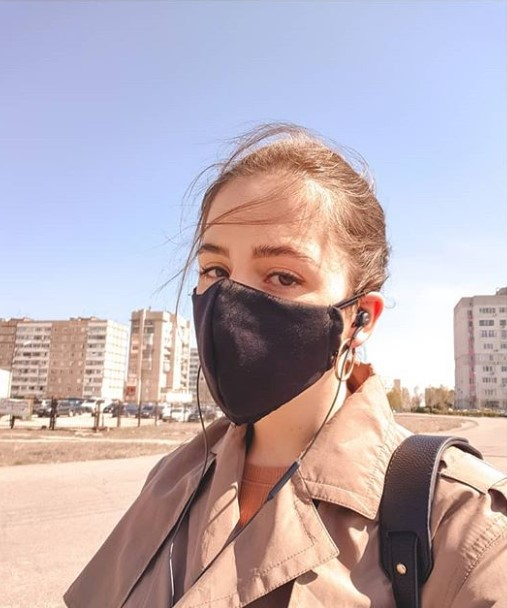face_with_mask: (184, 154, 389, 431)
